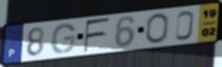0: (175, 10, 196, 42)
6: (112, 14, 137, 50)
8: (26, 26, 46, 57)
F: (83, 17, 112, 54)
G: (50, 23, 77, 55)
O: (145, 12, 170, 44)
